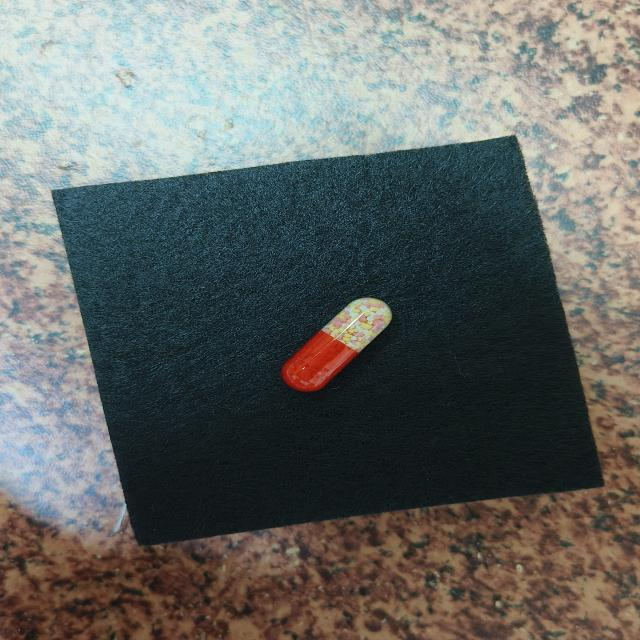Intact Capsule: (281, 297, 392, 392)
